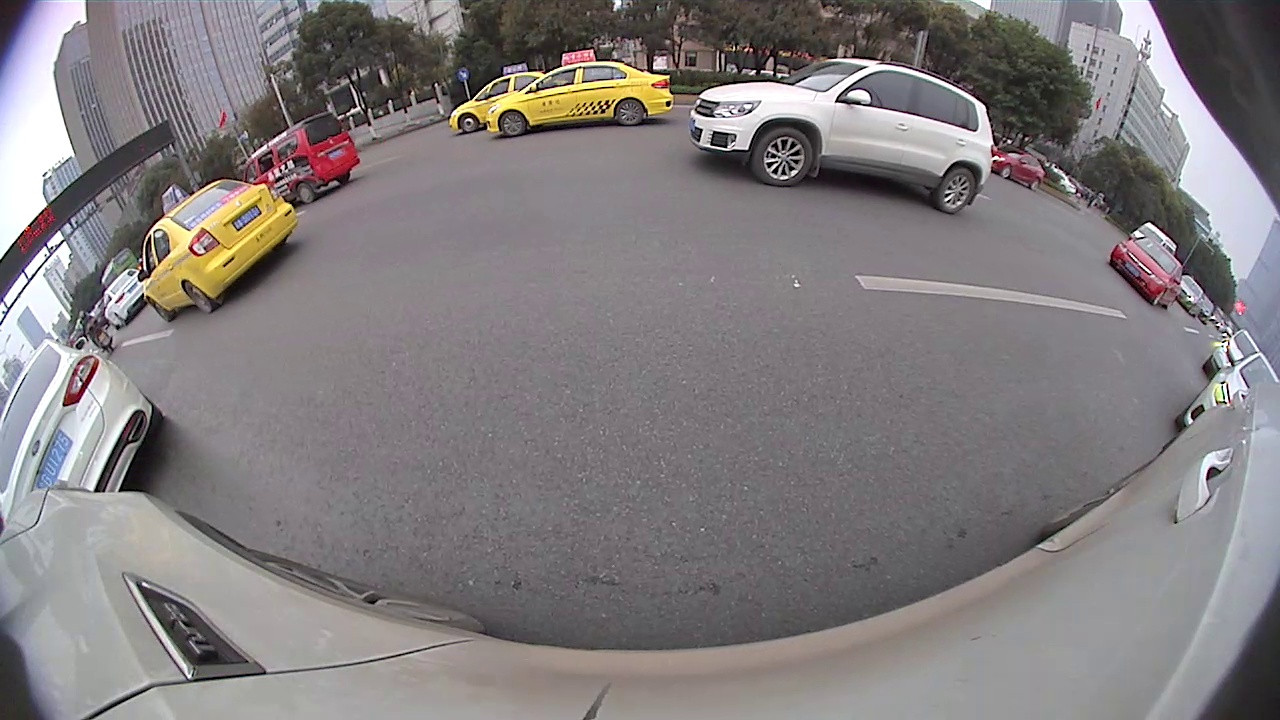car: (689, 57, 993, 212), (2, 342, 165, 526), (139, 180, 299, 321), (486, 51, 674, 137), (243, 113, 359, 203), (1177, 354, 1276, 430), (448, 70, 544, 131), (1108, 236, 1183, 308), (104, 272, 146, 323), (992, 147, 1045, 187)
front: (757, 128, 815, 185), (498, 109, 527, 136), (457, 111, 480, 133)
rear: (939, 167, 975, 216), (183, 279, 214, 316), (617, 98, 645, 126), (296, 181, 315, 205)
rider: (80, 316, 116, 353)
